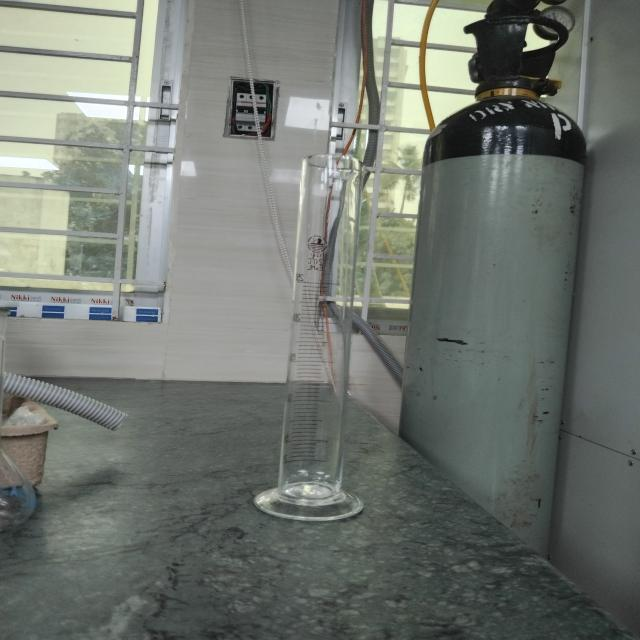Measuring_Cylinder: (244, 117, 385, 544)
